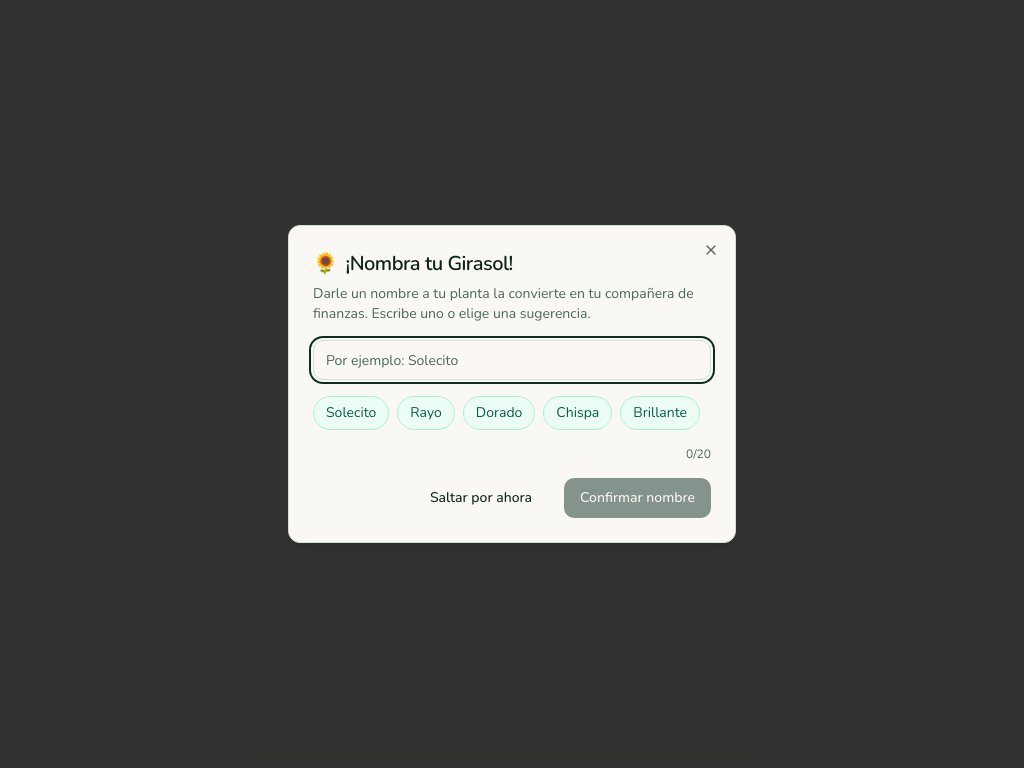
it: NameYourPlant — clicking suggested names › clicking a suggested name chip populates the input field
Click the button "Solecito" at (351, 413), box [313,396,389,430]
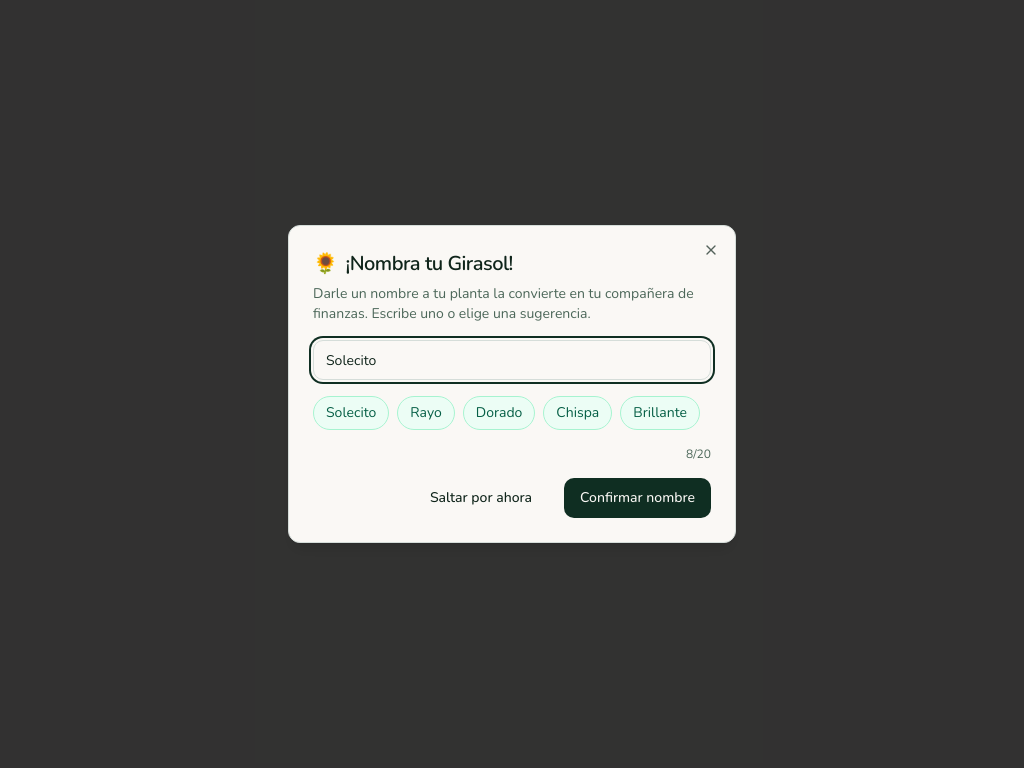
Expected: the field holds "Solecito", [313,340,711,380]
